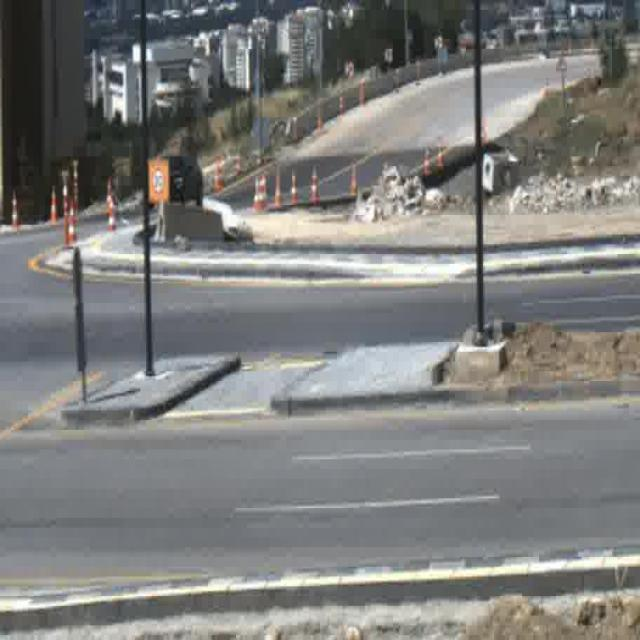Car: (159, 154, 202, 210)
